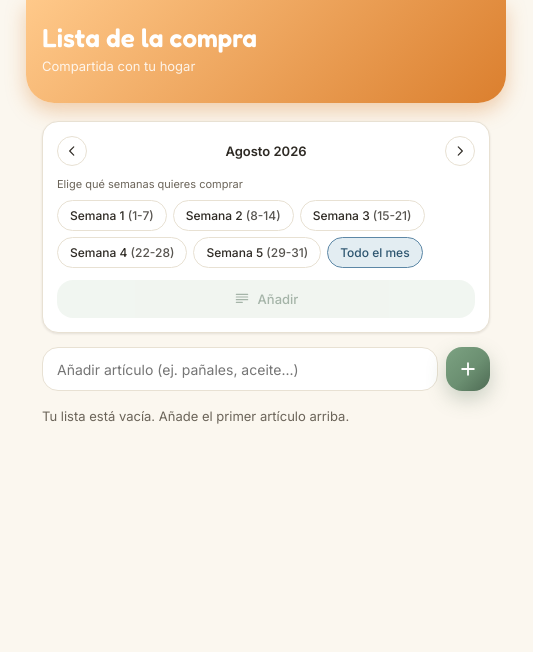
it: ShoppingList — añadir y quitar artículos a mano › añade un artículo al pulsar Enter, sin necesidad del botón
Type "Aceite de oliva" into the field with placeholder "Añadir artículo (ej. pañales, aceite...)" at x=240, y=369, box [42, 347, 438, 391]
Then press Enter
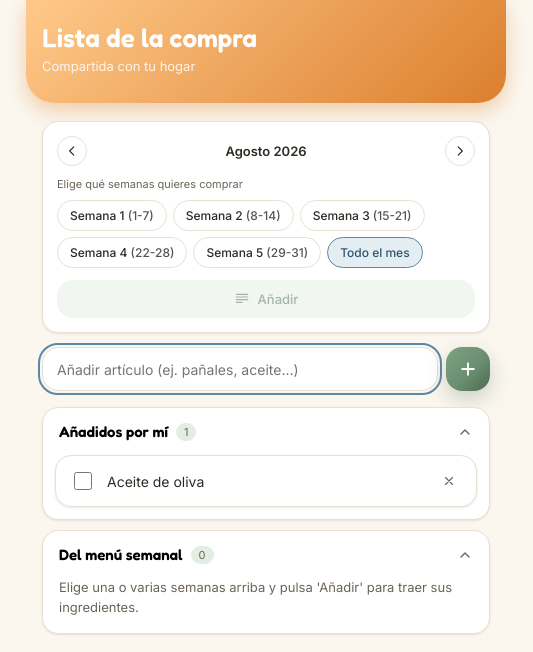
Check: the text "Aceite de oliva" is shown, box [107, 472, 204, 490]
